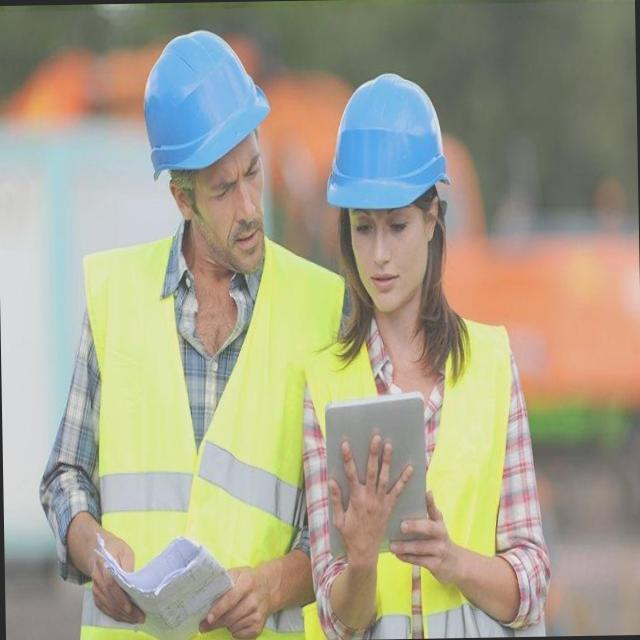helmet: (136, 25, 280, 187), (320, 67, 452, 220)
no-goggles: (327, 200, 443, 254), (174, 152, 283, 208)
vest: (79, 236, 320, 640), (298, 304, 518, 606)
